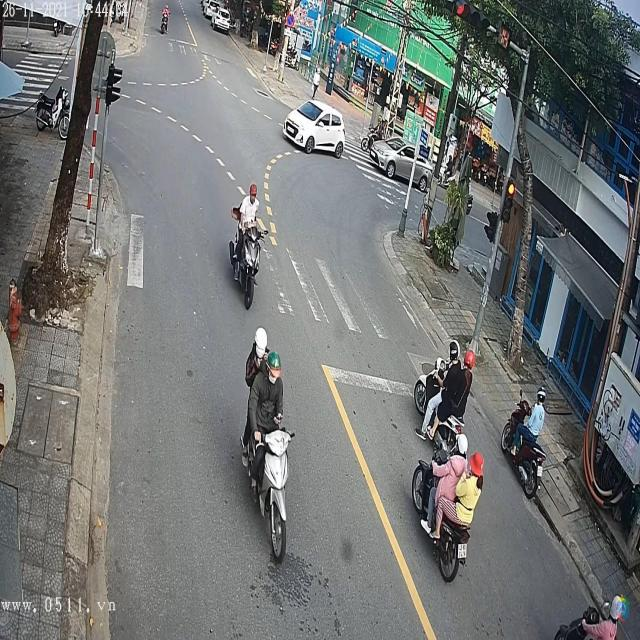car: (284, 100, 348, 158), (369, 138, 433, 186)
motorcycle: (240, 378, 293, 568), (409, 442, 470, 587), (414, 354, 466, 460), (500, 390, 547, 502), (228, 216, 266, 310)
